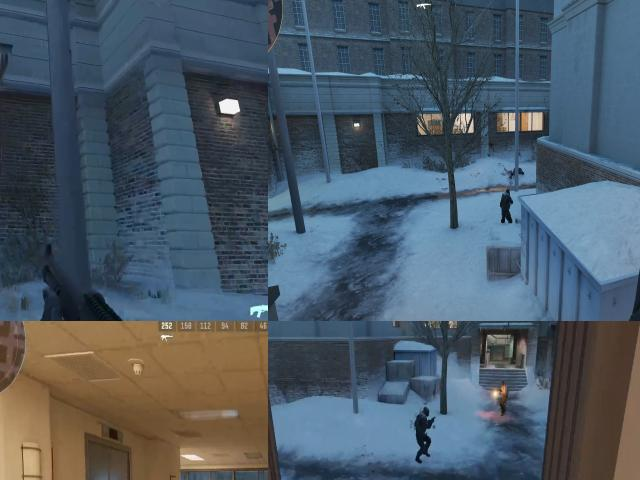CT: (412, 402, 433, 453), (502, 188, 511, 223)
CT-Head: (420, 404, 430, 420), (505, 189, 510, 194)
Dead: (510, 167, 524, 178)
T: (498, 380, 510, 410)
T-Head: (499, 382, 507, 391)
